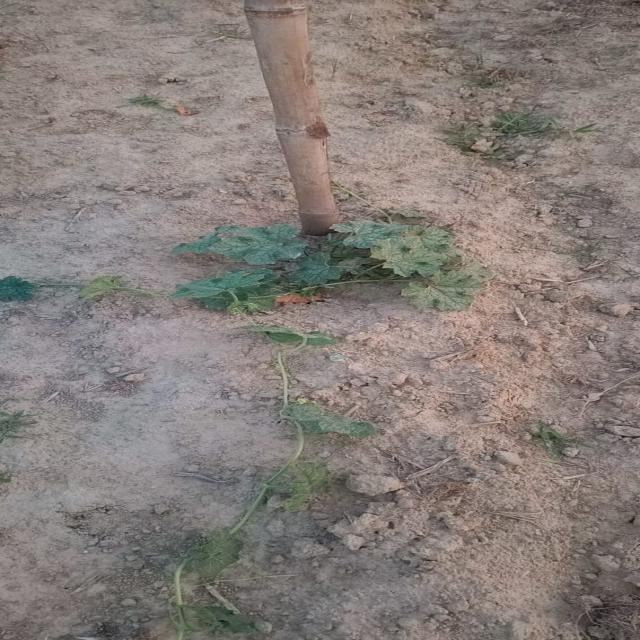plant: (168, 221, 488, 312)
